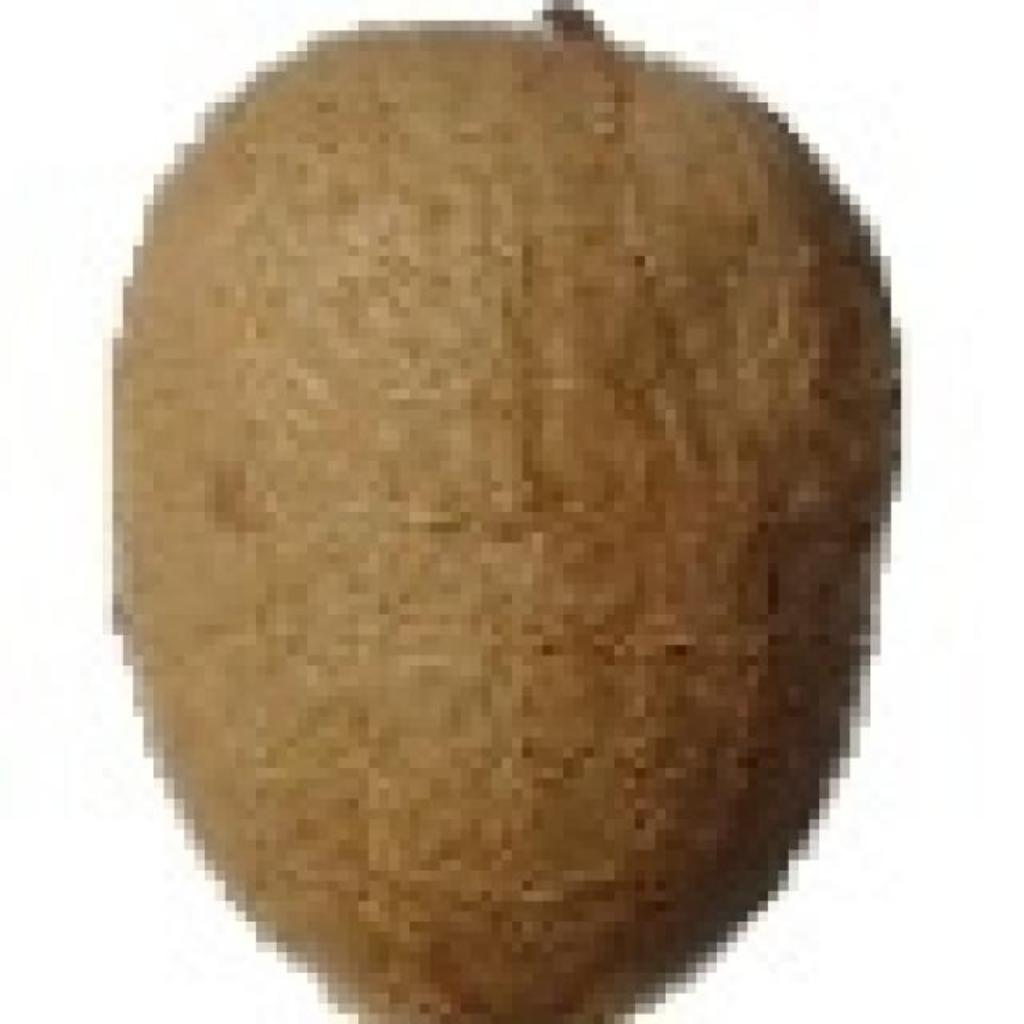kiwi: (102, 0, 870, 1004)
